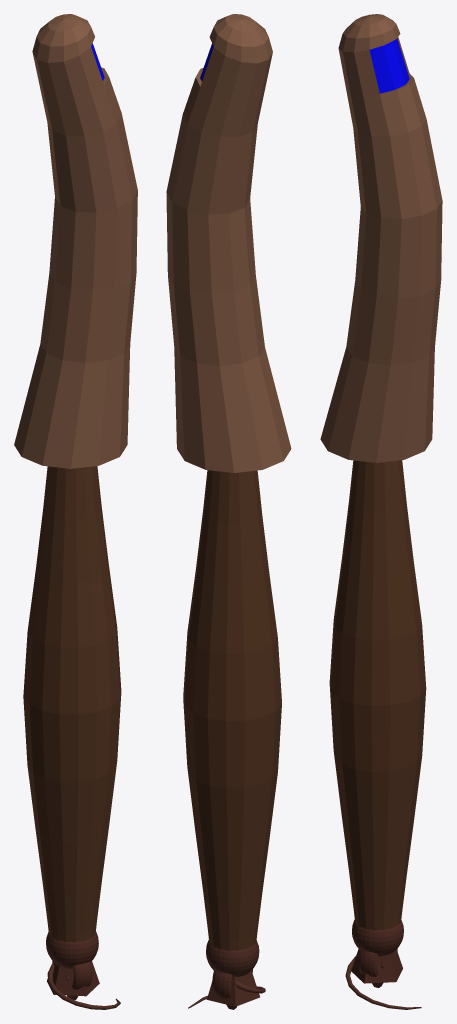
The model's file is Wand 142.glb.
3 views of the same model, side by side, from view 1: azimuth 30°, elevation 25°; view 2: azimuth 150°, elevation 25°; view 3: azimuth 330°, elevation 25° (orthographic). The views are drawn at different scales.
Visible parts, largest first — view 1: GeneratedWand, Pommel_4, Pommel_9, Pommel_10, Pommel_2; view 2: GeneratedWand, Pommel_4, Pommel_9, Pommel_2; view 3: GeneratedWand, Pommel_4, Pommel_9, Pommel_2, Pommel_10.
Part boxes in pixels (<box>): GeneratedWand: <box>14,14,137,942</box>; Pommel_4: <box>46,931,98,968</box>; Pommel_9: <box>47,961,99,996</box>; Pommel_10: <box>47,962,120,1009</box>; Pommel_2: <box>52,961,92,989</box>; GeneratedWand: <box>166,14,291,950</box>; Pommel_4: <box>206,940,259,976</box>; Pommel_9: <box>207,970,259,1006</box>; Pommel_2: <box>212,969,252,998</box>; GeneratedWand: <box>320,14,442,930</box>; Pommel_4: <box>352,920,403,956</box>; Pommel_9: <box>351,949,402,983</box>; Pommel_2: <box>358,948,397,976</box>; Pommel_10: <box>345,956,421,1009</box>.
Bounding box in the file's own units: 0.0644 × 0.5518 × 0.0572.
